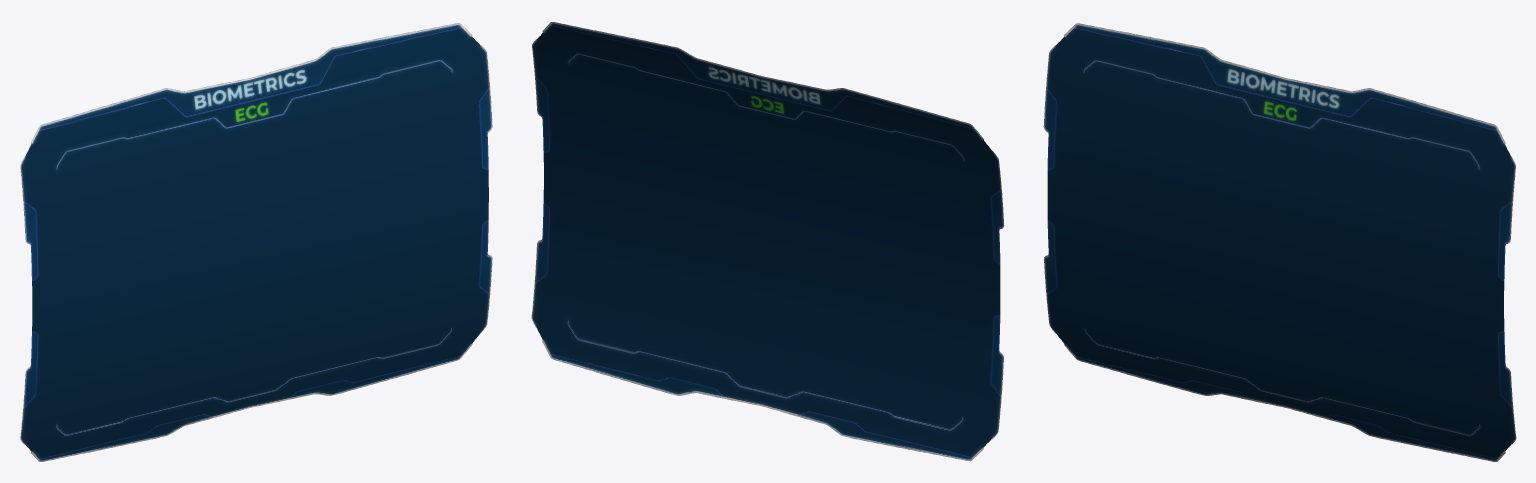
Rendered from BiometricsUI.FBX.
The picture shows the model from 3 angles, left to right: view 1: azimuth 30°, elevation 25°; view 2: azimuth 150°, elevation 25°; view 3: azimuth 330°, elevation 25°; orthographic projection.
Visible parts, largest first — view 1: UI; view 2: UI; view 3: UI.
Boxes of the visible parts, x1,y1,x2,y2 form: UI: (20, 23, 492, 461); UI: (531, 22, 1004, 461); UI: (1043, 23, 1516, 461).
Size of the model in its own units: 37.05 by 26.02 by 1.59.
Materials: 1 (1 with a texture image).
